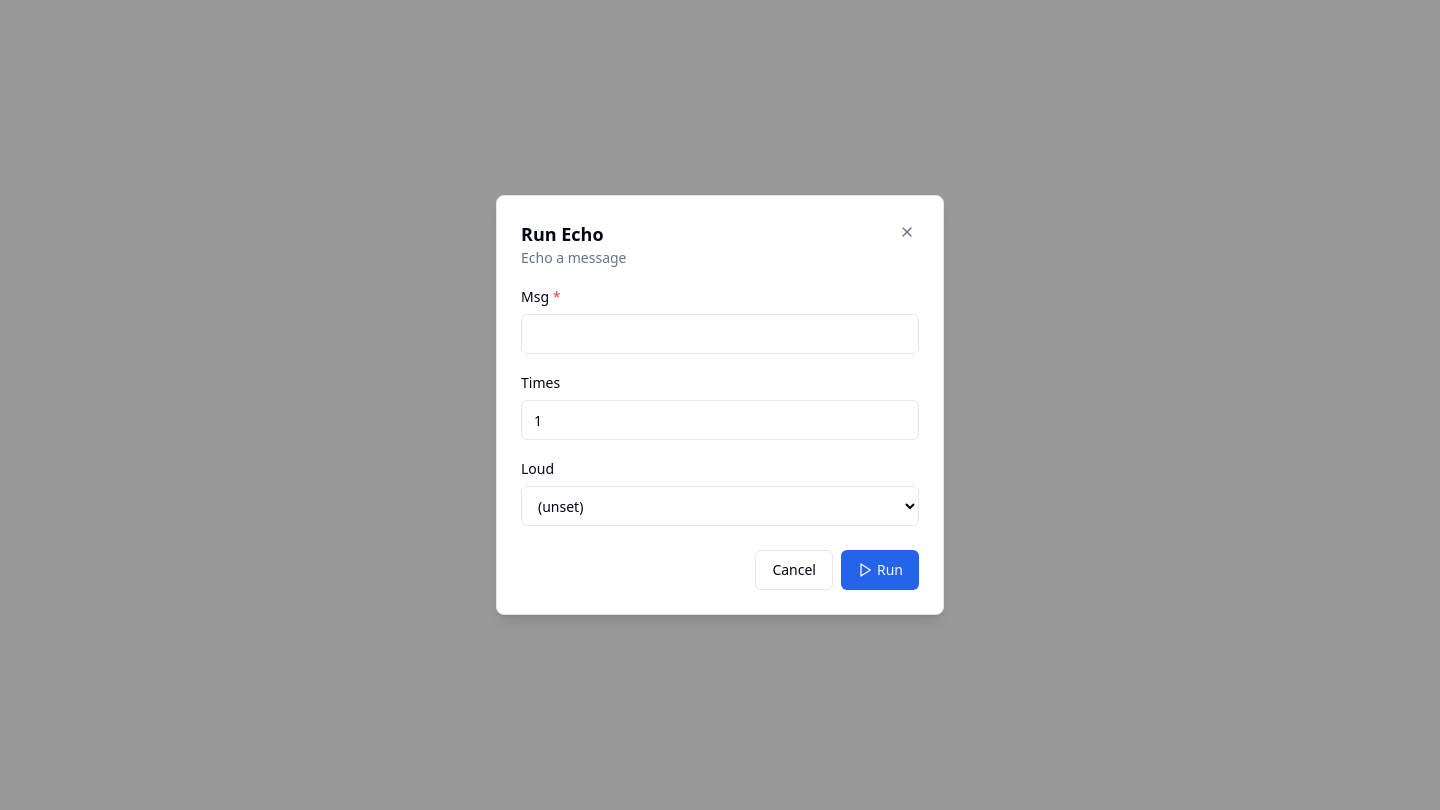
RunScriptDialog › validates required fields before submitting
Click the button "Run" at (880, 570), box [841,550,919,590]
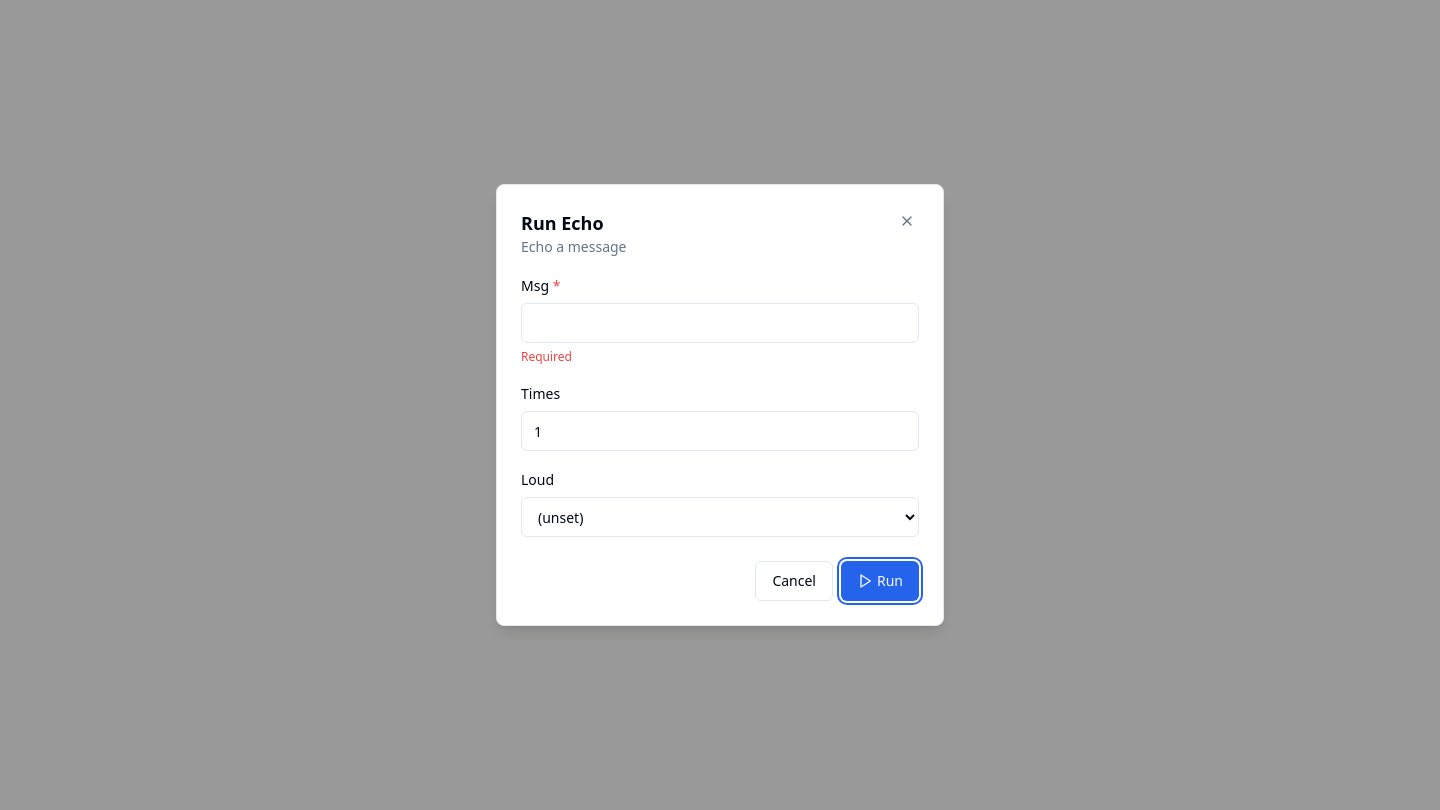
Expected: the text "Required" is shown, [521,348,572,365]
